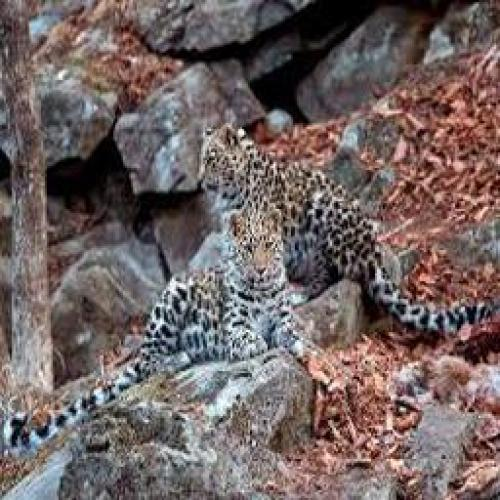amur_leopard-endangered: (9, 200, 299, 449), (191, 119, 491, 334)
